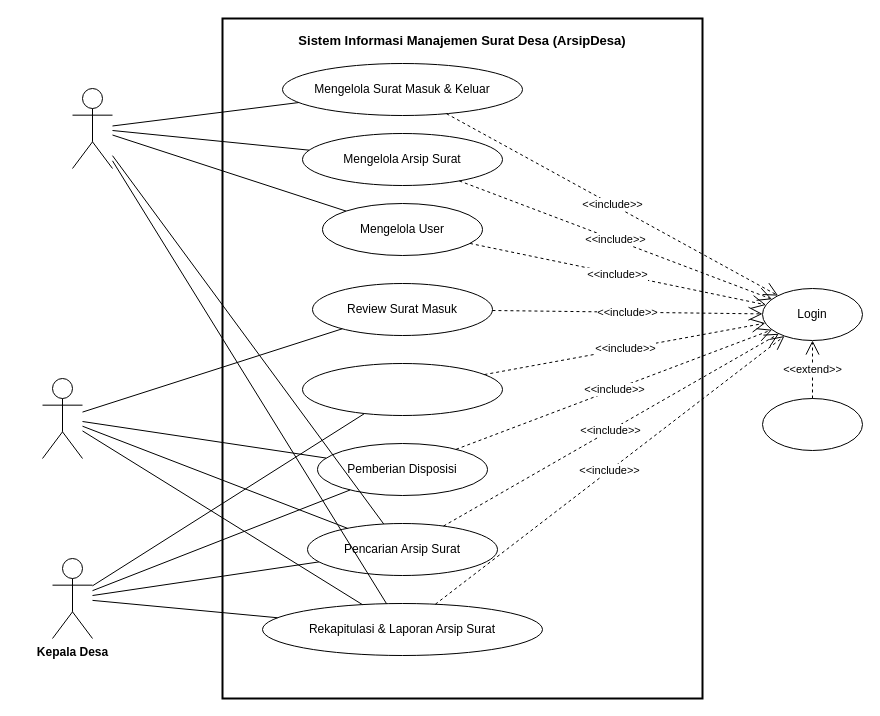
Image size: 880x716. Some labels were removed from this diagram. The shapes that lost their labels are listed below. From the top down, each one's centre as x and y in pixels, then its label:
At [92,128]: "Admin".
At [402,389]: "Verifikasi Surat Masuk".
At [62,418]: "Sekretaris Desa".
At [812,424]: "Logout".
